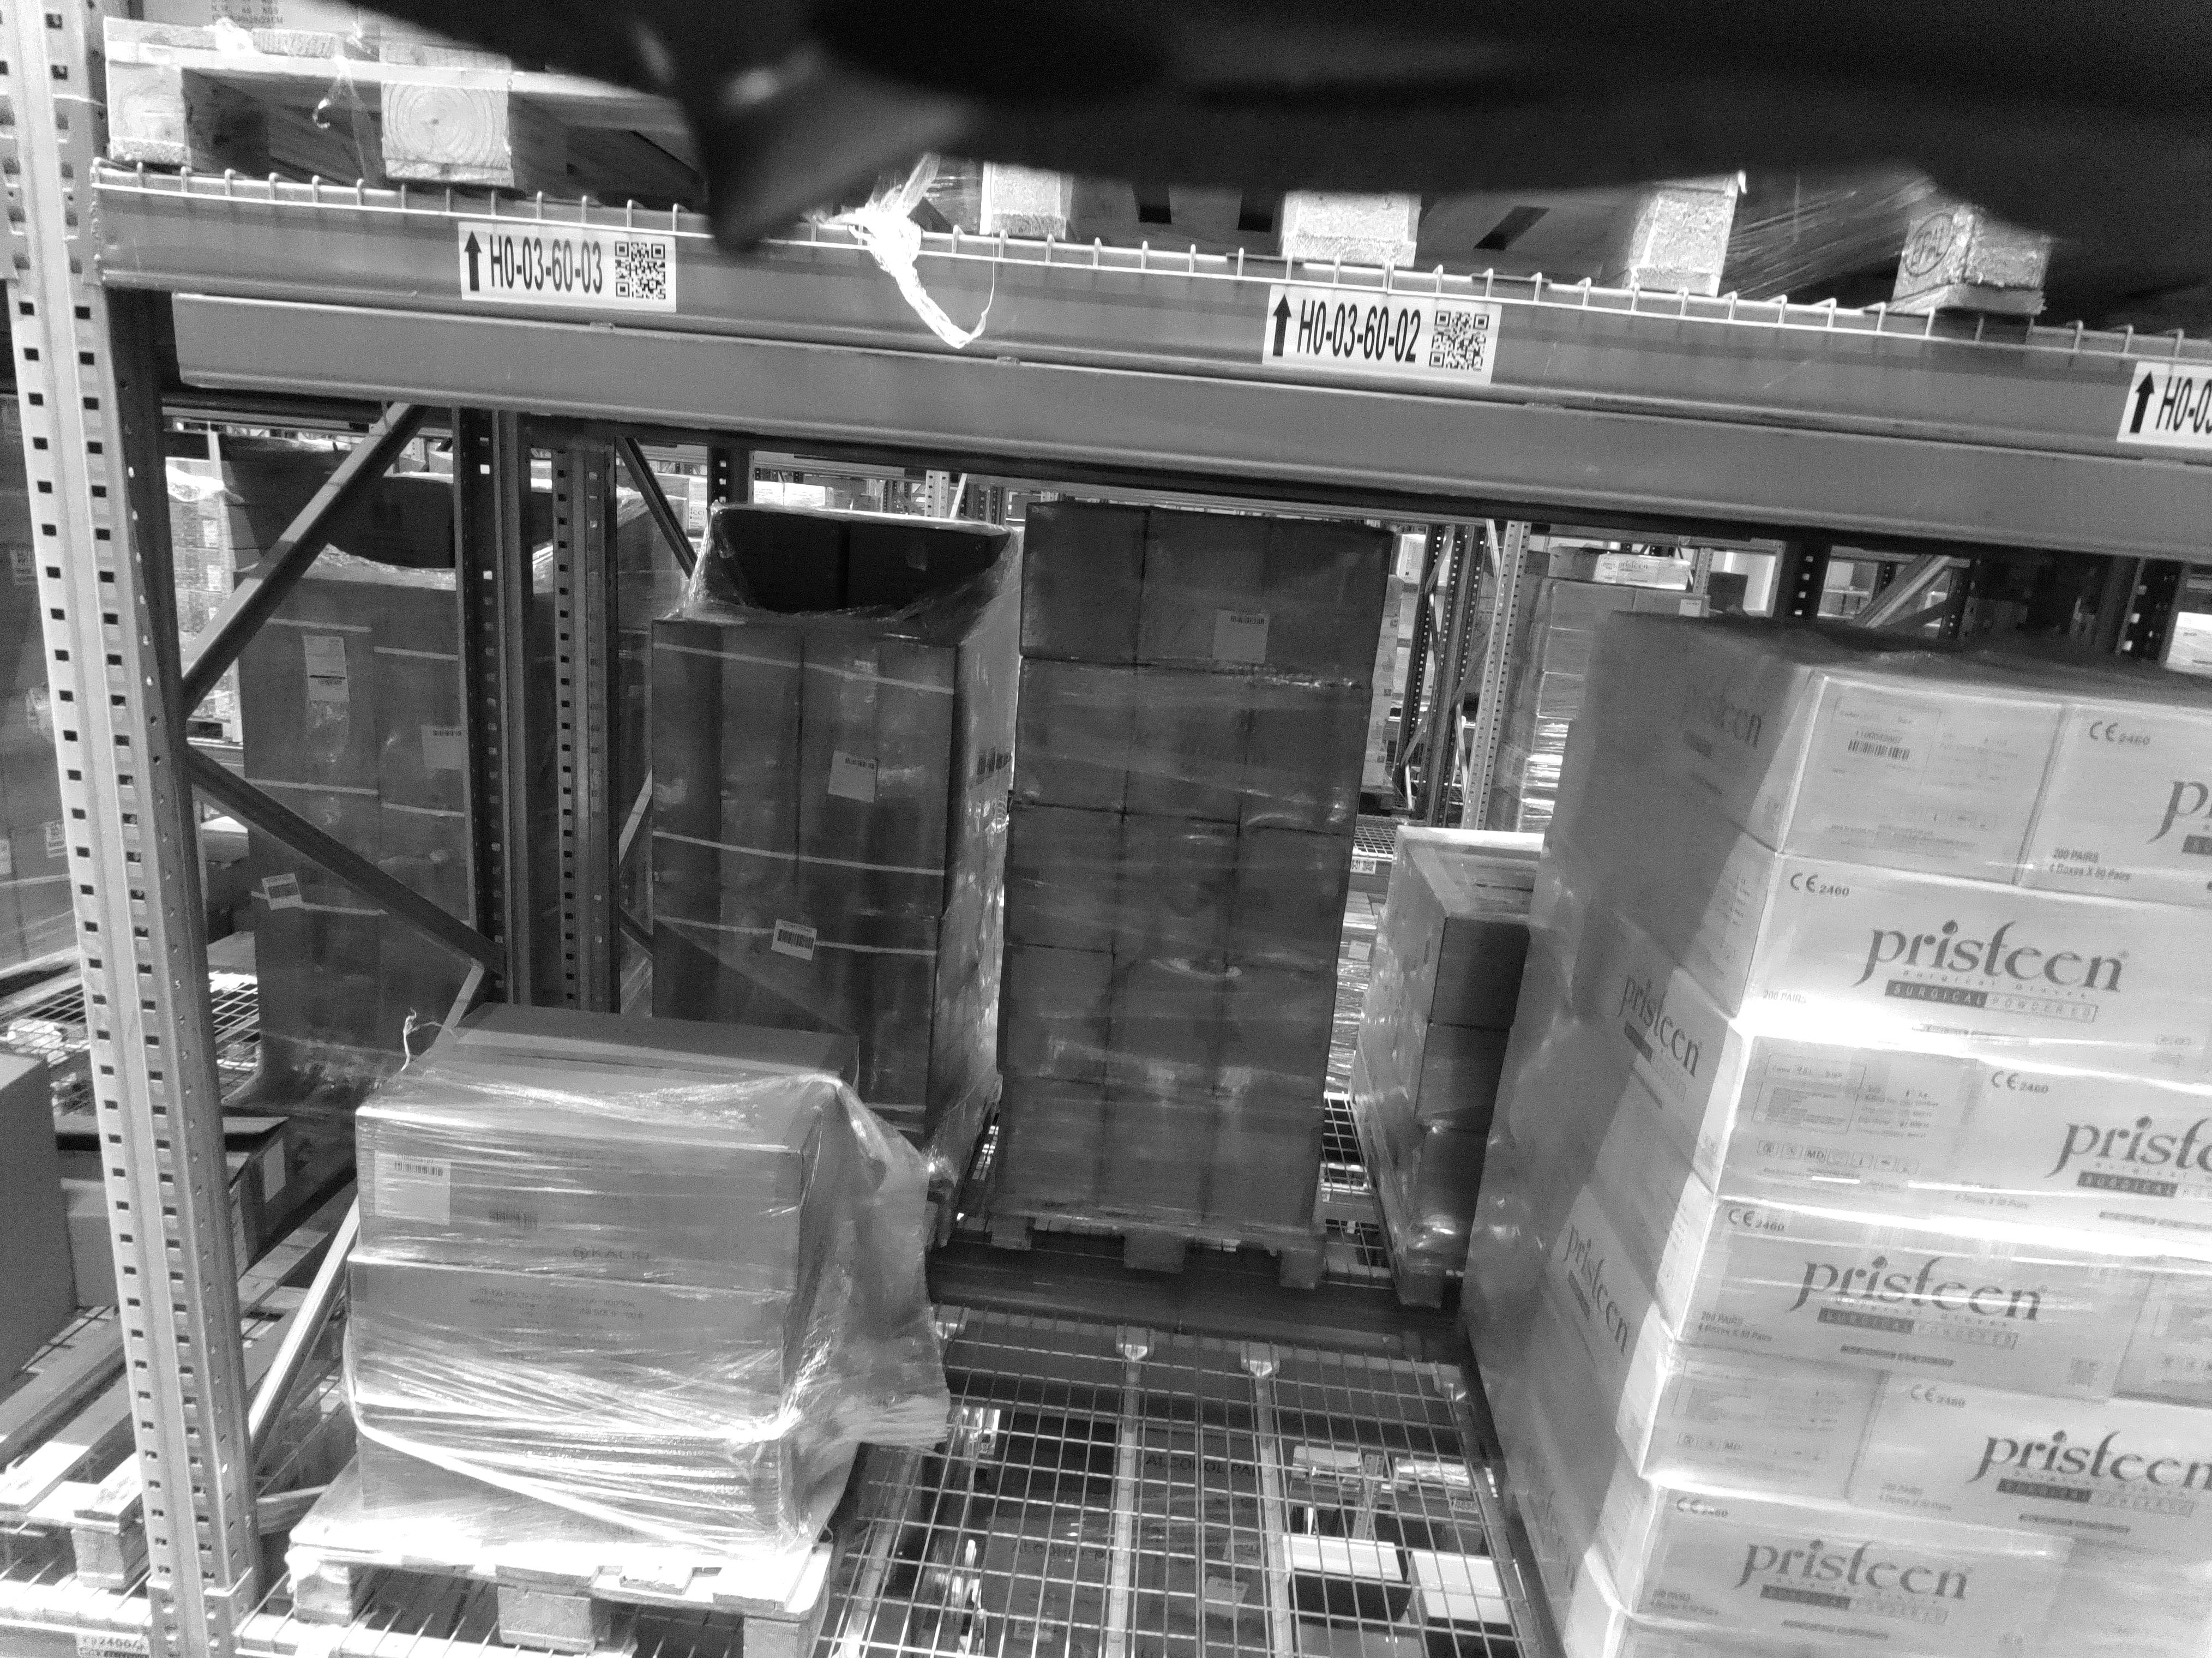empty-shelf: (918, 481, 1470, 1658)
